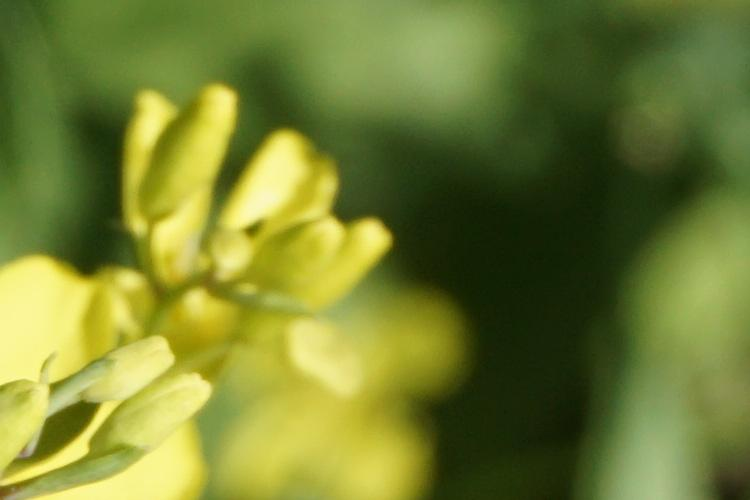bud: (129, 71, 233, 218), (75, 372, 223, 457), (308, 211, 402, 331), (122, 86, 187, 252), (223, 126, 319, 232), (237, 215, 347, 304), (63, 336, 185, 401), (1, 375, 60, 481)
